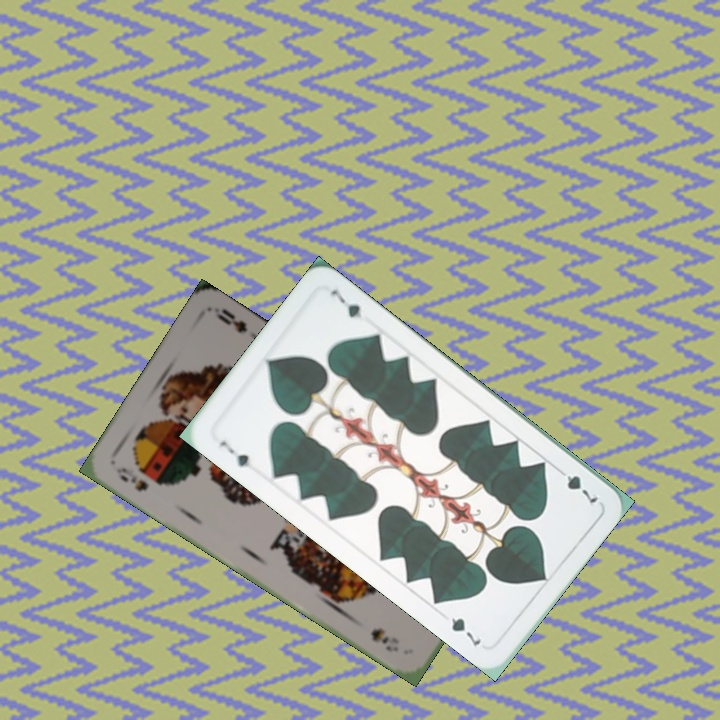G7: (552, 464, 601, 506), (215, 436, 252, 470)
SO: (112, 463, 151, 494)
